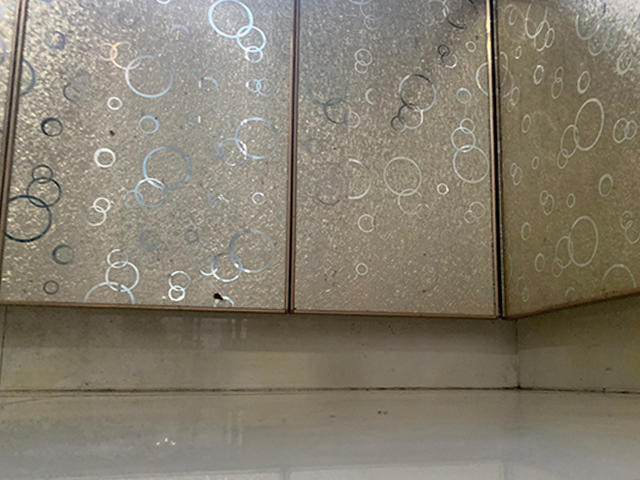cabinet: (1, 1, 499, 389)
